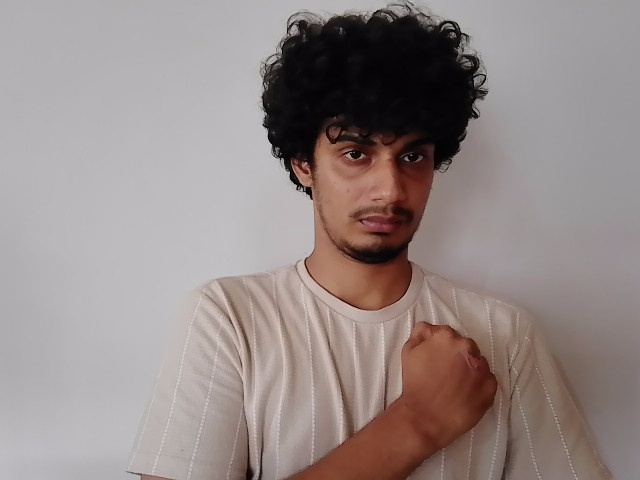sorry: (363, 269, 588, 453)
